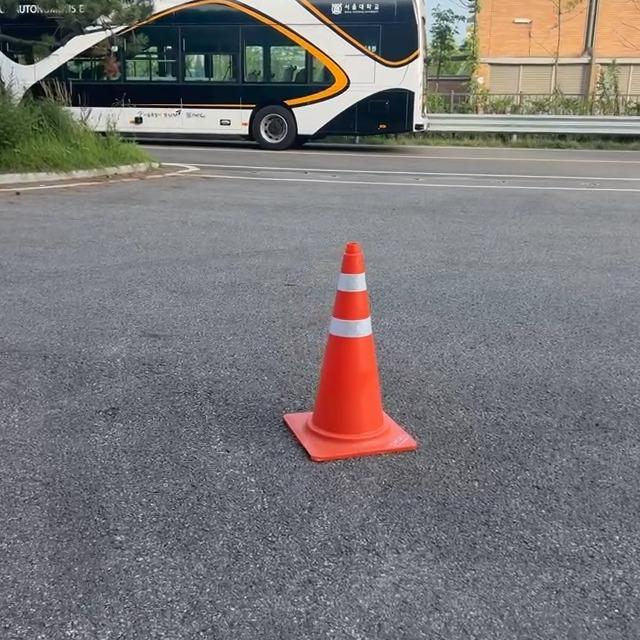fallen_object: (285, 232, 538, 542)
